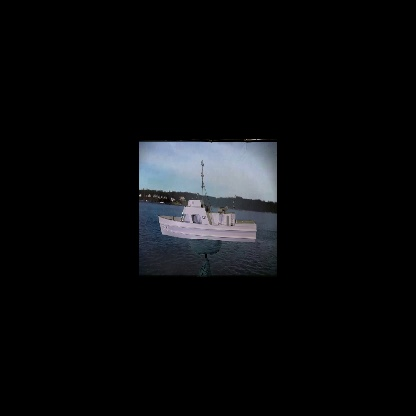YP689: (158, 160, 257, 244)
